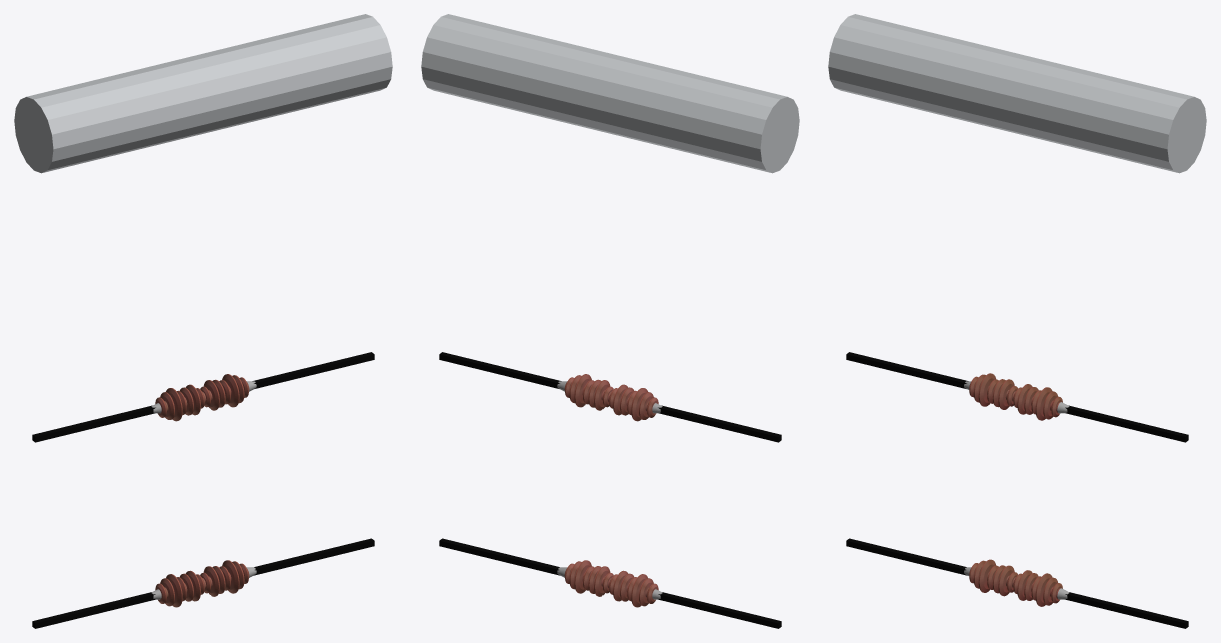
File: moretop_2.obj
The picture shows the model from 3 angles, left to right: view 1: azimuth 30°, elevation 25°; view 2: azimuth 150°, elevation 25°; view 3: azimuth 330°, elevation 25°; orthographic projection.
Visible parts, largest first — view 1: moretop_1.002, chain, moretop_1.001; view 2: moretop_1.002, chain, moretop_1.001; view 3: moretop_1.002, chain, moretop_1.001, chain.001.
Part boxes in pixels (left/top/right/bottom): moretop_1.002: left=14, top=14, right=392, bottom=173; chain: left=155, top=374, right=248, bottom=607; moretop_1.001: left=32, top=352, right=374, bottom=628; moretop_1.002: left=421, top=14, right=799, bottom=173; chain: left=565, top=374, right=658, bottom=607; moretop_1.001: left=439, top=352, right=781, bottom=628; moretop_1.002: left=828, top=14, right=1206, bottom=173; chain: left=969, top=373, right=1062, bottom=606; moretop_1.001: left=846, top=352, right=1188, bottom=628; chain.001: left=964, top=381, right=1069, bottom=599.
Size of the model in its own units: 2 by 3.05 by 0.4.
4 materials, 4 textured.
